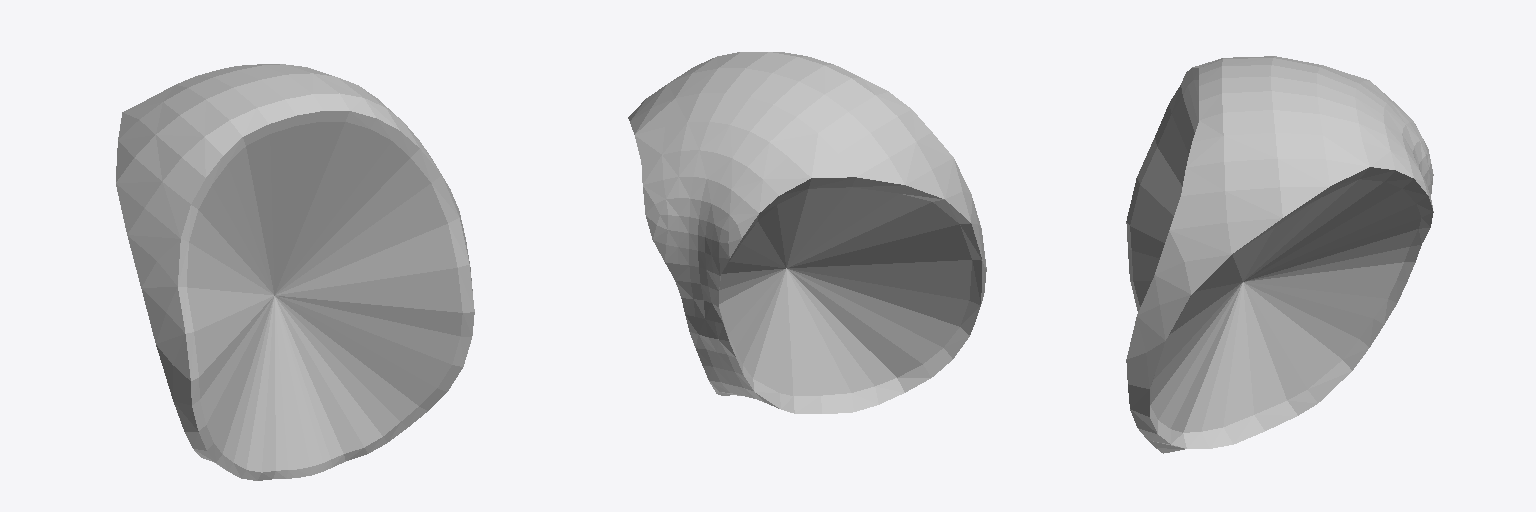
File: panties_female 2.7.obj
3 views of the same model, side by side, from view 1: azimuth 30°, elevation 25°; view 2: azimuth 150°, elevation 25°; view 3: azimuth 270°, elevation 25° (orthographic).
Parts seen in each view (by area): view 1: panties_female.001_panties_reference.001; view 2: panties_female.001_panties_reference.001; view 3: panties_female.001_panties_reference.001.
Boxes of the visible parts, x1=… form: panties_female.001_panties_reference.001: x1=116, y1=64, x2=474, y2=480; panties_female.001_panties_reference.001: x1=628, y1=52, x2=986, y2=413; panties_female.001_panties_reference.001: x1=1126, y1=56, x2=1433, y2=453.
Size of the model in its own units: 29.11 by 31.39 by 24.34.